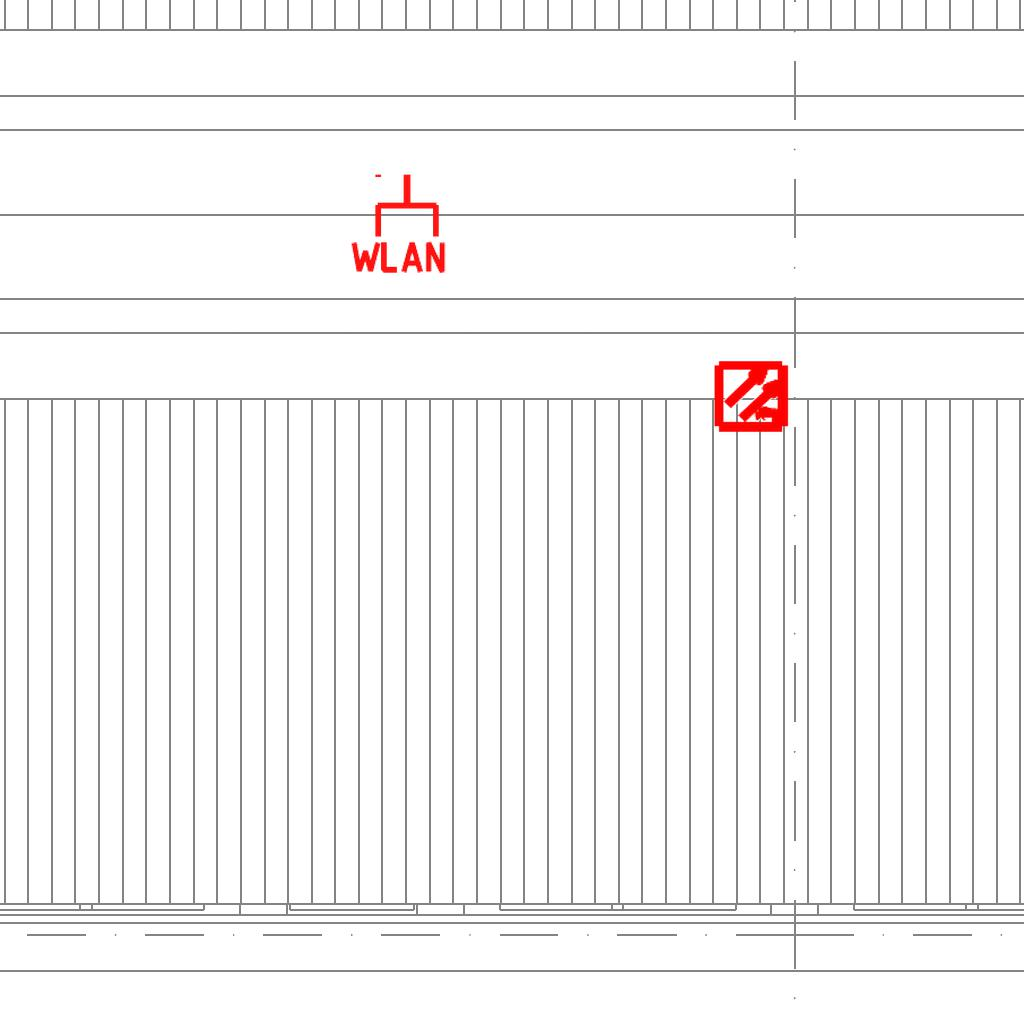OT_Multisensormelder_(Kombination_RMO_WMD): (697, 340, 810, 453)
WLAN: (346, 170, 450, 275)
